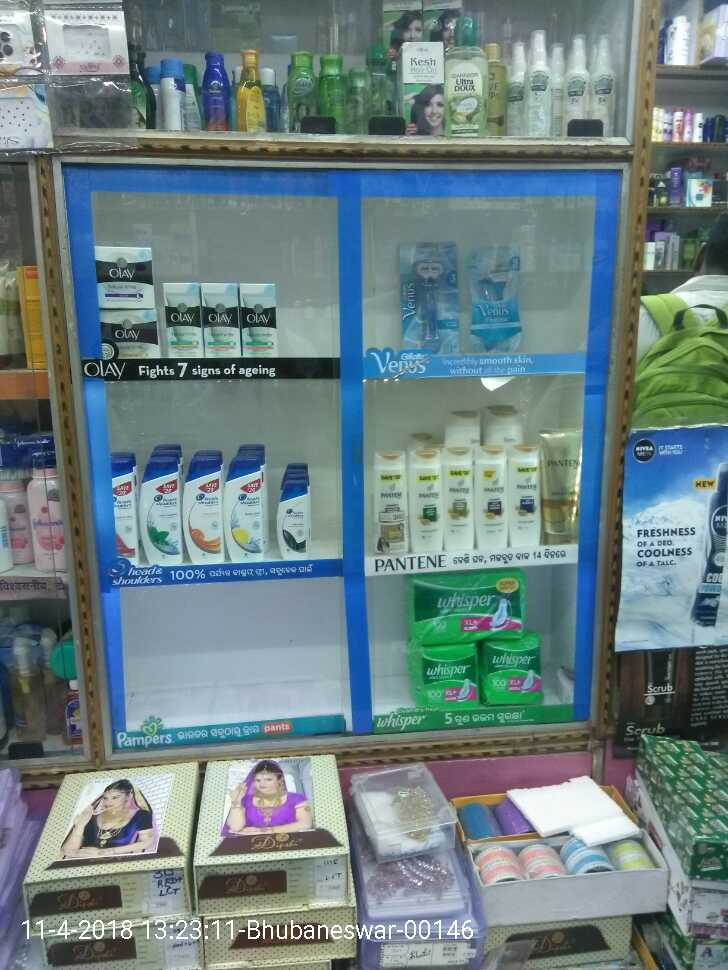venus: (399, 241, 459, 349), (466, 244, 525, 349)
